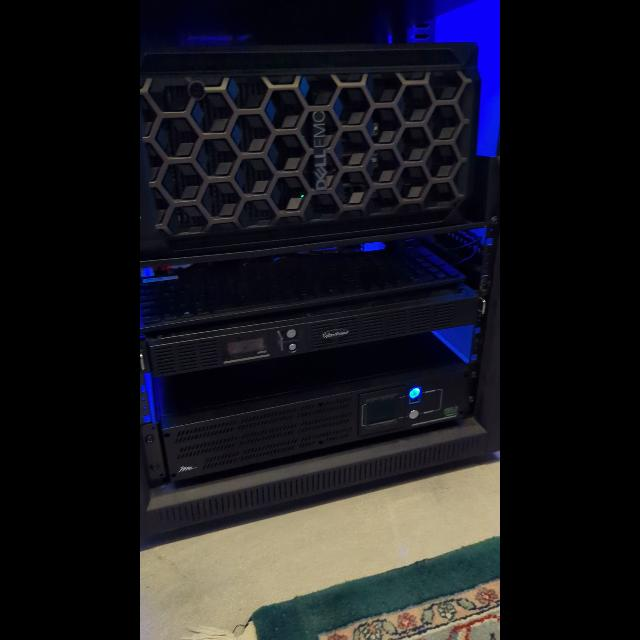Server: (144, 39, 500, 553)
